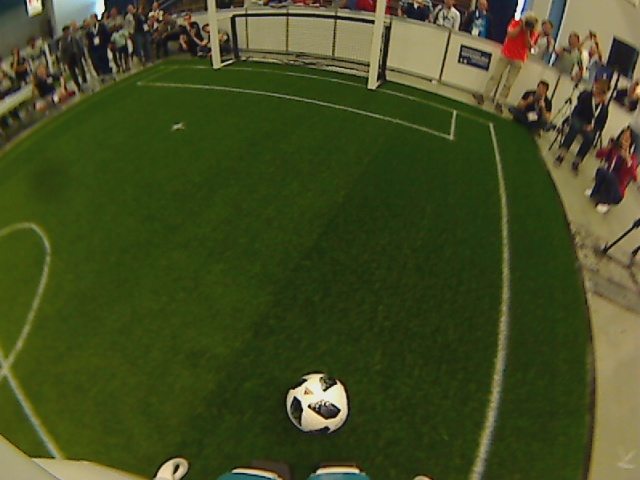ball: (283, 372, 348, 436)
